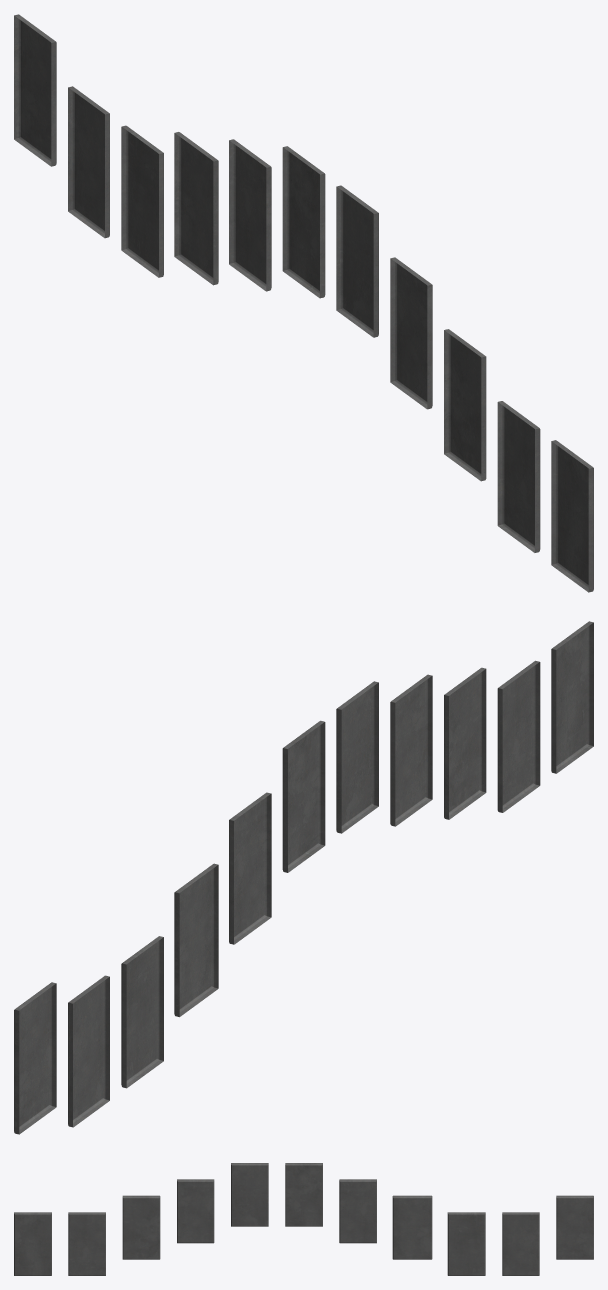
File: cP_Pathway03_SteppingStoneLong02_Comb02.dae
3 renders of one model, top to bottom at view 1: azimuth 30°, elevation 25°; view 2: azimuth 150°, elevation 25°; view 3: azimuth 270°, elevation 25°, orthographic. The views are drawn at different scales.
Visible parts, largest first — view 1: cP_Pathway03_SteppingStoneLong02_Comb02.001; view 2: cP_Pathway03_SteppingStoneLong02_Comb02.001; view 3: cP_Pathway03_SteppingStoneLong02_Comb02.001.
Part boxes in pixels (x1=…): cP_Pathway03_SteppingStoneLong02_Comb02.001: x1=14, y1=14, x2=593, y2=592; cP_Pathway03_SteppingStoneLong02_Comb02.001: x1=14, y1=621, x2=593, y2=1134; cP_Pathway03_SteppingStoneLong02_Comb02.001: x1=14, y1=1163, x2=593, y2=1275.
Bounding box in the file's own units: 0.0499 × 8.02 × 1.71.
